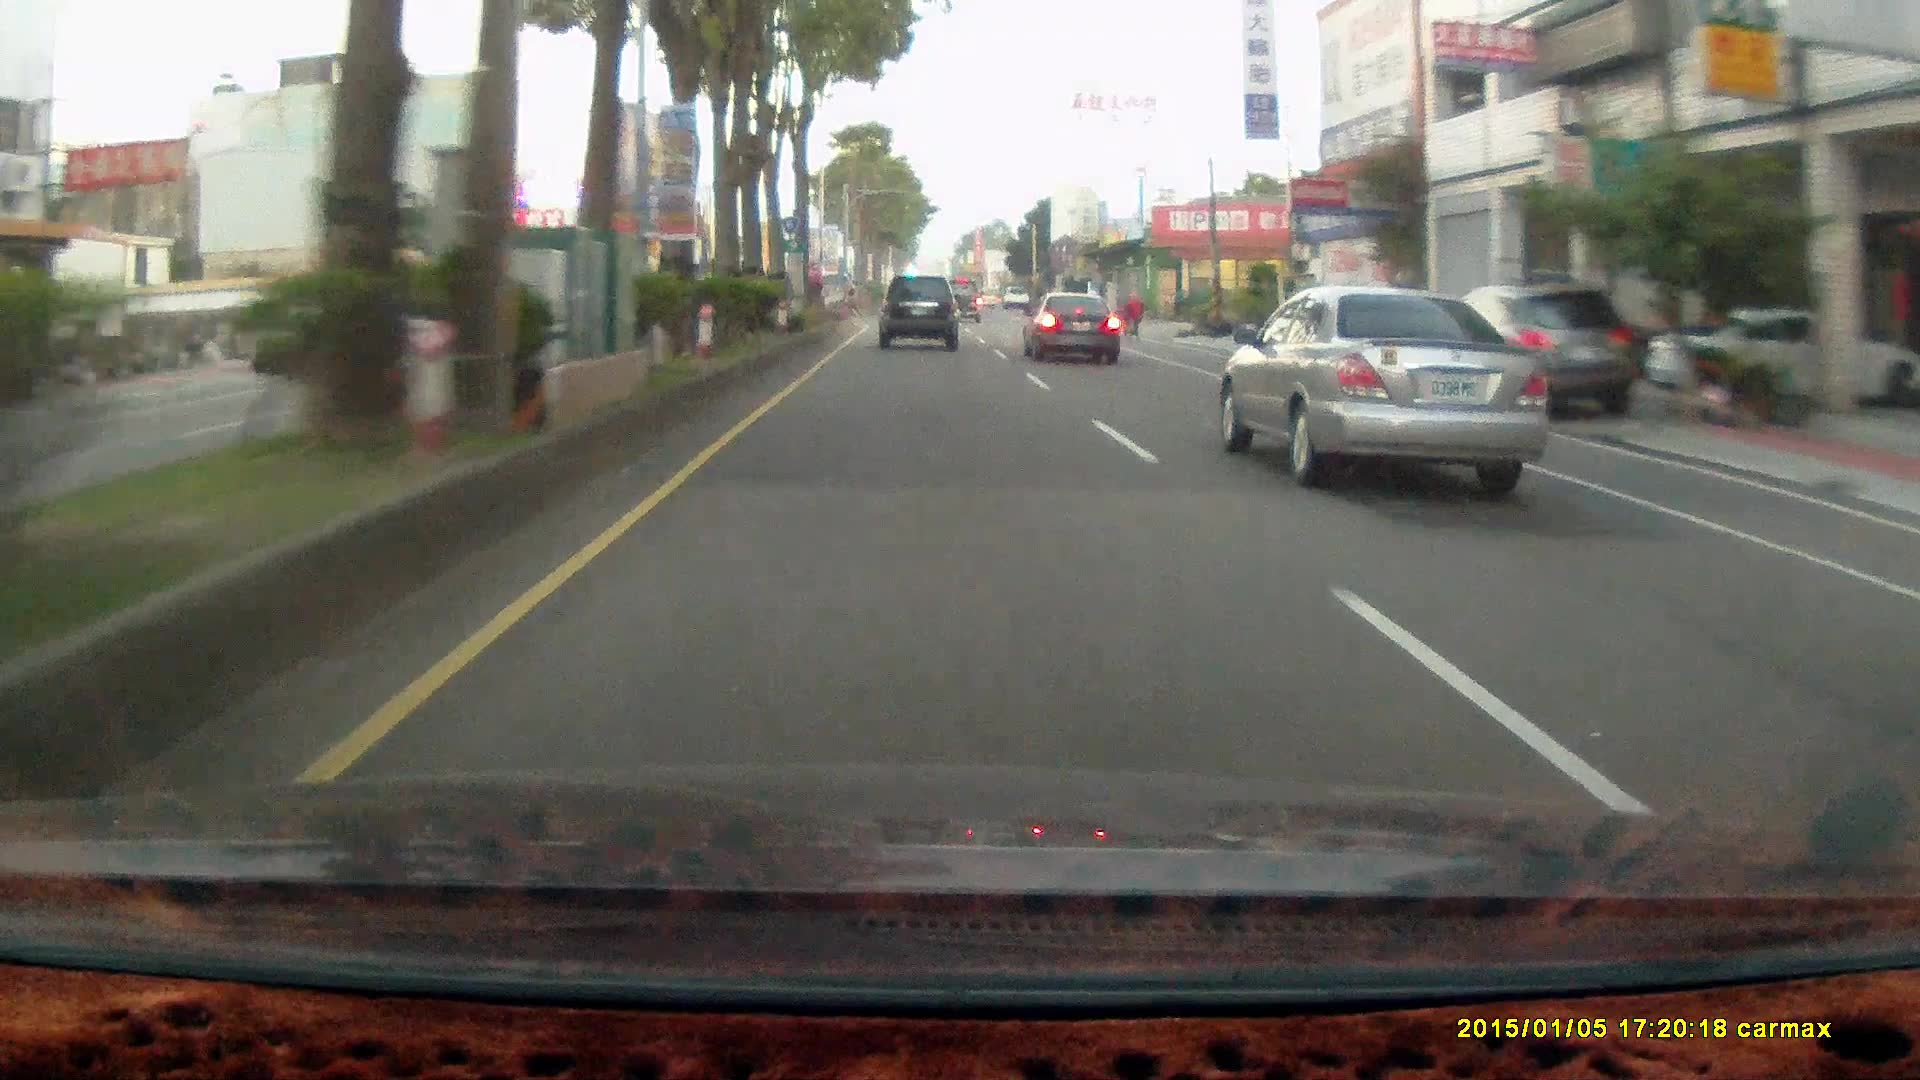pedestrian: (1123, 290, 1144, 339), (1126, 289, 1146, 336)
vehicle: (1218, 291, 1545, 479), (1409, 283, 1637, 422), (1422, 284, 1650, 422), (1647, 305, 1920, 412), (1021, 292, 1124, 369), (1021, 288, 1119, 363), (877, 276, 965, 352), (877, 275, 958, 350), (943, 282, 984, 327)
